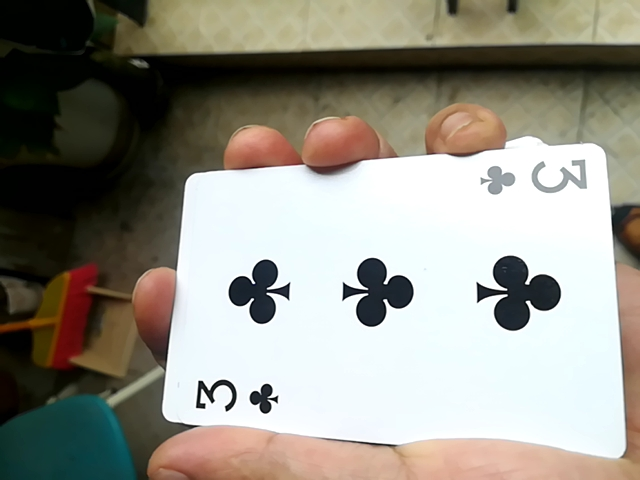mh 3: (150, 146, 629, 458)
